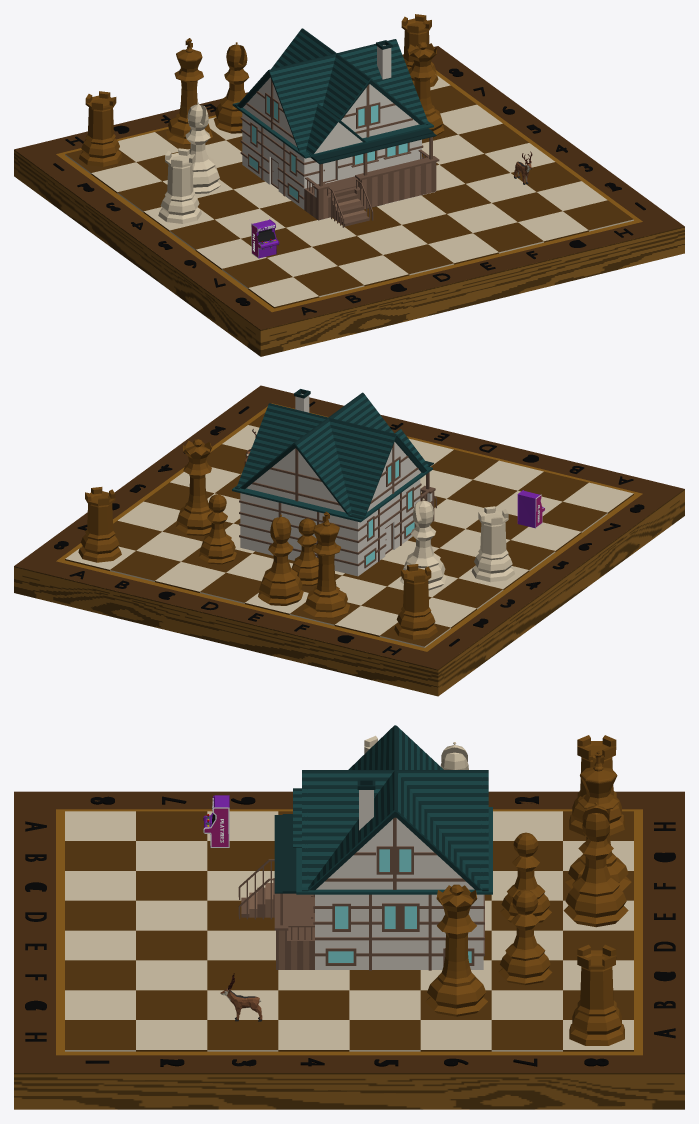
3 views of the same model, one above another, from view 1: azimuth 30°, elevation 25°; view 2: azimuth 150°, elevation 25°; view 3: azimuth 270°, elevation 25° (orthographic). The views are drawn at different scales.
Visible parts, largest first — view 1: Cube.002, Cube.793, OBJRANDOM_ARCADE; view 2: Cube.002, Cube.793, OBJRANDOM_ARCADE; view 3: Cube.002, Cube.793, OBJRANDOM_ARCADE, ANIMAL_VENADO.
Boxes of the visible parts, x1,y1,x2,y2 form: Cube.002: (14, 14, 684, 356); Cube.793: (232, 28, 439, 227); OBJRANDOM_ARCADE: (251, 219, 279, 258); Cube.002: (14, 385, 684, 696); Cube.793: (232, 389, 436, 576); OBJRANDOM_ARCADE: (517, 490, 545, 528); Cube.002: (14, 735, 684, 1109); Cube.793: (238, 725, 492, 970); OBJRANDOM_ARCADE: (203, 795, 229, 847); ANIMAL_VENADO: (220, 973, 262, 1021).
Size of the model in its own units: 3981 by 1507 by 4012.
Materials: 28 (4 with a texture image).
